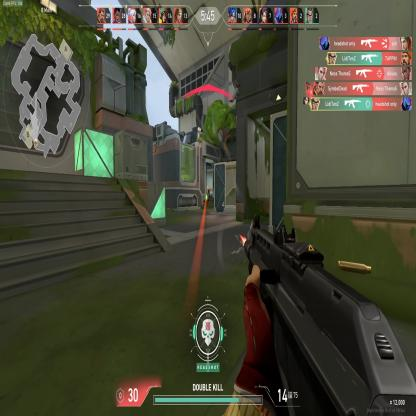enemy: (206, 184, 210, 198)
